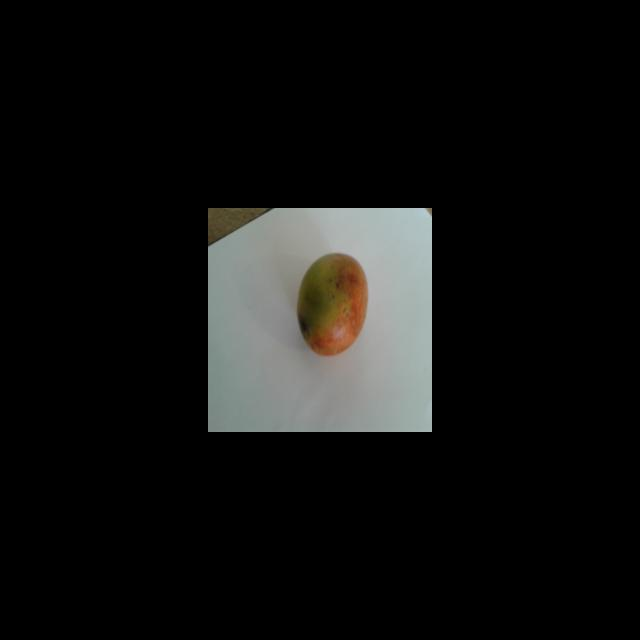Mango: (296, 252, 368, 356)
